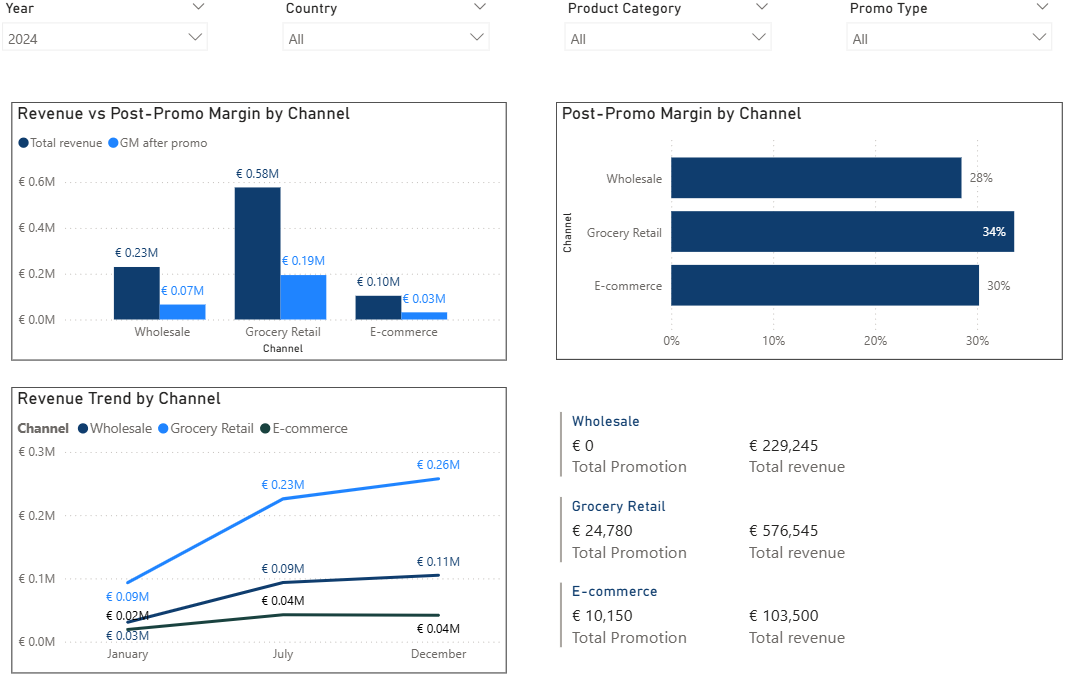

Layout of this report page (visuals, bound fields, positions):
{"tool":"powerbi","page":{"name":"Channel Performance","canvas":[1280,720],"ordinal":2},"visuals":[{"type":"slicer","fields":{"Values":["dim_date.year"]},"box":[97.2,0,221.5,70.1],"z":0},{"type":"slicer","fields":{"Values":["dim_product.category"]},"box":[648.8,0,222.6,69.4],"z":1000},{"type":"slicer","fields":{"Values":["fact_promotions.promo_mechanic"]},"box":[925.2,0,221.1,69.7],"z":2000},{"type":"clusteredColumnChart","title":"Revenue vs Post-Promo Margin by Channel","fields":{"Category":["dim_channel.channel"],"Y":["fact_sales.Total revenue","fact_promotions.GM after promo"]},"box":[115.6,106,485.5,253.2],"z":3000},{"type":"clusteredBarChart","title":"Post-Promo Margin by Channel","fields":{"Y":["fact_promotions.GM after promo %"],"Category":["dim_channel.Channel"]},"box":[649.6,106,496.7,252.9],"z":4000},{"type":"slicer","fields":{"Values":["dim_region.country"]},"box":[372.5,0,222.6,69.4],"z":5000},{"type":"lineChart","title":"Revenue Trend by Channel","fields":{"Category":["dim_date.month_name"],"Y":["fact_sales.Total revenue"],"Series":["dim_channel.Channel"]},"box":[115.6,385,485.5,280.6],"z":6000},{"type":"multiRowCard","fields":{"Values":["dim_channel.Channel","fact_promotions.Total promotion","fact_sales.Total revenue"]},"box":[648.5,404.4,369.1,310.3],"z":7000}]}

Visuals, with their boxes on the page's 1280x720 design canvas (x1, y1, x2, y2). These are canvas units, not pixel positions in the 1074x679 screenshot, which may show the page scaled, cropped or inside an application window:
slicer - dim_date.year: 97,0,319,70
slicer - dim_product.category: 649,0,871,69
slicer - fact_promotions.promo_mechanic: 925,0,1146,70
"Revenue vs Post-Promo Margin by Channel" clusteredColumnChart: 116,106,601,359
"Post-Promo Margin by Channel" clusteredBarChart: 650,106,1146,359
slicer - dim_region.country: 372,0,595,69
"Revenue Trend by Channel" lineChart: 116,385,601,666
multiRowCard - dim_channel.Channel x fact_promotions.Total promotion: 648,404,1018,715
